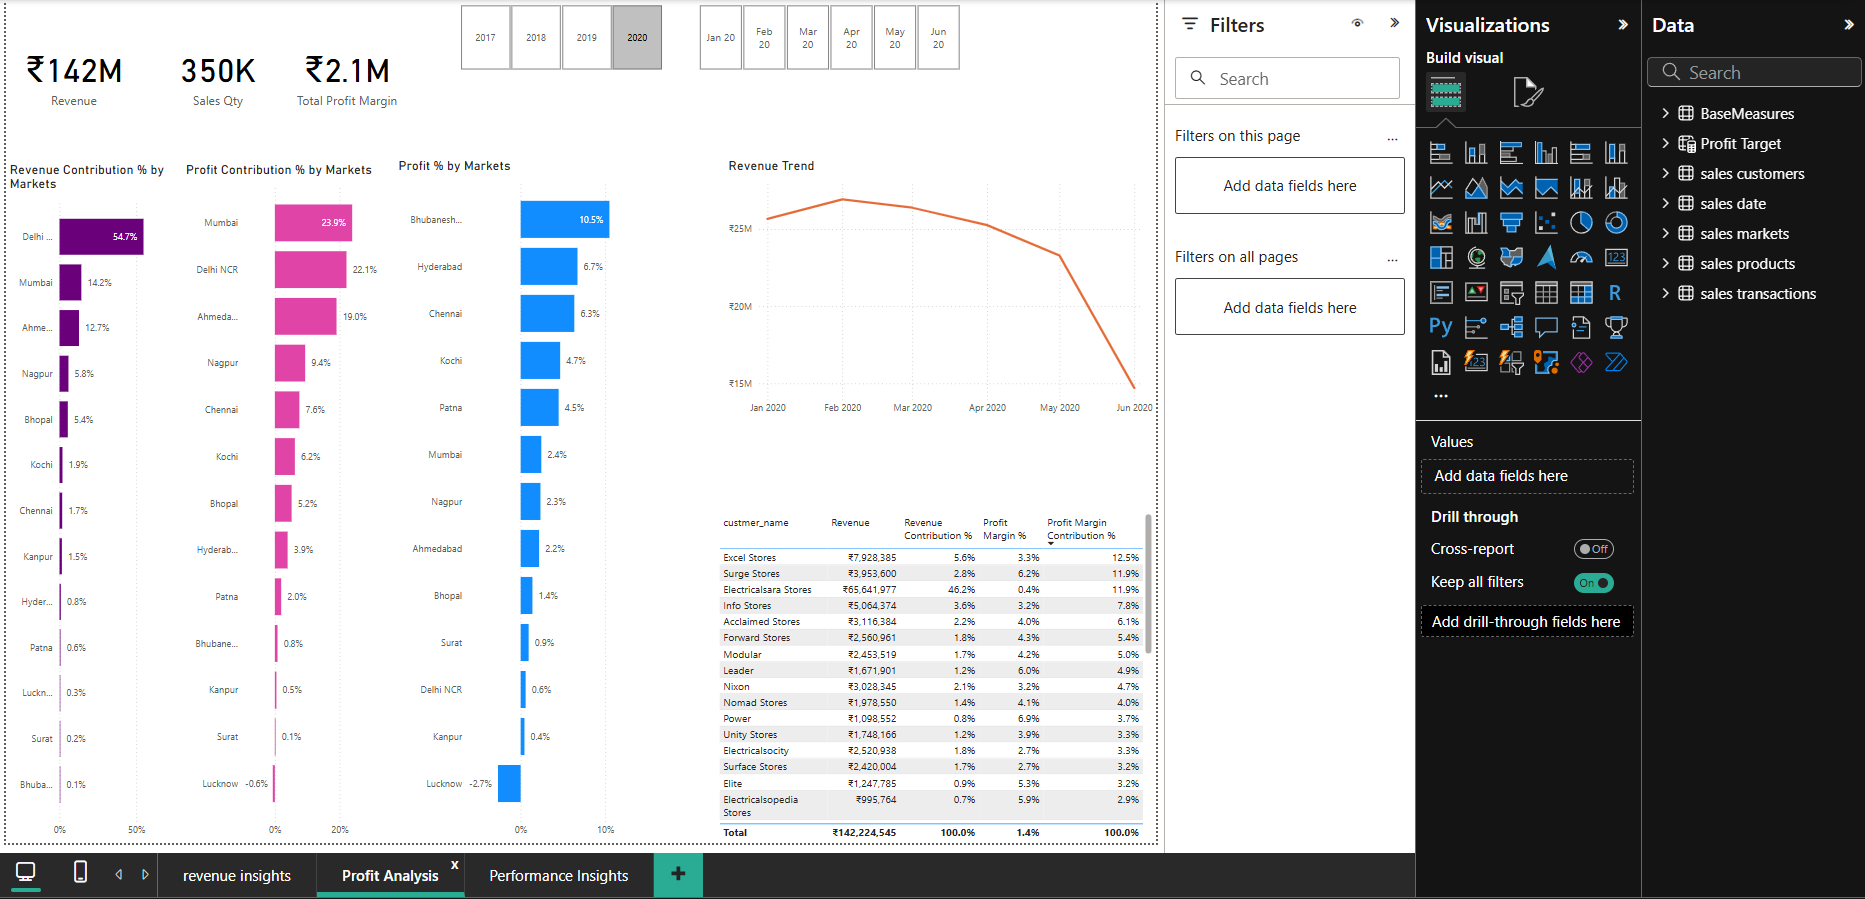

This screenshot's page, from the dashboard's own definition file:
{"tool":"powerbi","page":{"name":"Profit Analysis","canvas":[1500,1100],"ordinal":1},"visuals":[{"type":"card","fields":{"Values":["BaseMeasures.Revenue"]},"box":[0,0,177.7,196.9],"z":0},{"type":"card","fields":{"Values":["BaseMeasures.Sales Qty"]},"box":[200.1,0,152,196.9],"z":1000},{"type":"barChart","title":"Profit % by Markets","fields":{"Y":["BaseMeasures.Profit Margin %"],"Category":["sales markets.markets_name"]},"box":[506.7,205,336.7,895],"z":2000},{"type":"barChart","title":"Revenue Contribution % by Markets","fields":{"Category":["sales markets.markets_name"],"Y":["BaseMeasures.Revenue Contribution %"]},"box":[0,210,230,890],"z":3000},{"type":"slicer","fields":{"Values":["sales date.year"]},"box":[566.6,0,312.1,97.6],"z":4000},{"type":"slicer","fields":{"Values":["sales date.cy_date"]},"box":[878.7,0,388.9,97.6],"z":5000},{"type":"tableEx","title":"Top 5 Products","fields":{"Values":["sales customers.custmer_name","BaseMeasures.Revenue","BaseMeasures.Revenue Contribution %","BaseMeasures.Profit Margin %","BaseMeasures.Profit Margin Contribution %"]},"box":[925,665,575,435],"z":7000},{"type":"lineChart","title":"Revenue Trend","fields":{"Y":["BaseMeasures.Revenue"],"Category":["sales date.cy_date"]},"box":[936.7,205,563.3,345],"z":8000},{"type":"card","fields":{"Values":["BaseMeasures.Total Profit Margin"]},"box":[358.5,0,172.9,196.9],"z":9000},{"type":"barChart","title":"Profit Contribution % by Markets","fields":{"Category":["sales markets.markets_name"],"Y":["BaseMeasures.Profit Margin Contribution %"]},"box":[230,210,276.7,890],"z":10000}]}

Visuals, with their boxes on the page's 1500x1100 design canvas (x1, y1, x2, y2). These are canvas units, not pixel positions in the 1865x899 screenshot, which may show the page scaled, cropped or inside an application window:
card - BaseMeasures.Revenue: select_region(0, 0, 178, 197)
card - BaseMeasures.Sales Qty: select_region(200, 0, 352, 197)
"Profit % by Markets" barChart: select_region(507, 205, 843, 1100)
"Revenue Contribution % by Markets" barChart: select_region(0, 210, 230, 1100)
slicer - sales date.year: select_region(567, 0, 879, 98)
slicer - sales date.cy_date: select_region(879, 0, 1268, 98)
"Top 5 Products" tableEx: select_region(925, 665, 1500, 1100)
"Revenue Trend" lineChart: select_region(937, 205, 1500, 550)
card - BaseMeasures.Total Profit Margin: select_region(358, 0, 531, 197)
"Profit Contribution % by Markets" barChart: select_region(230, 210, 507, 1100)
